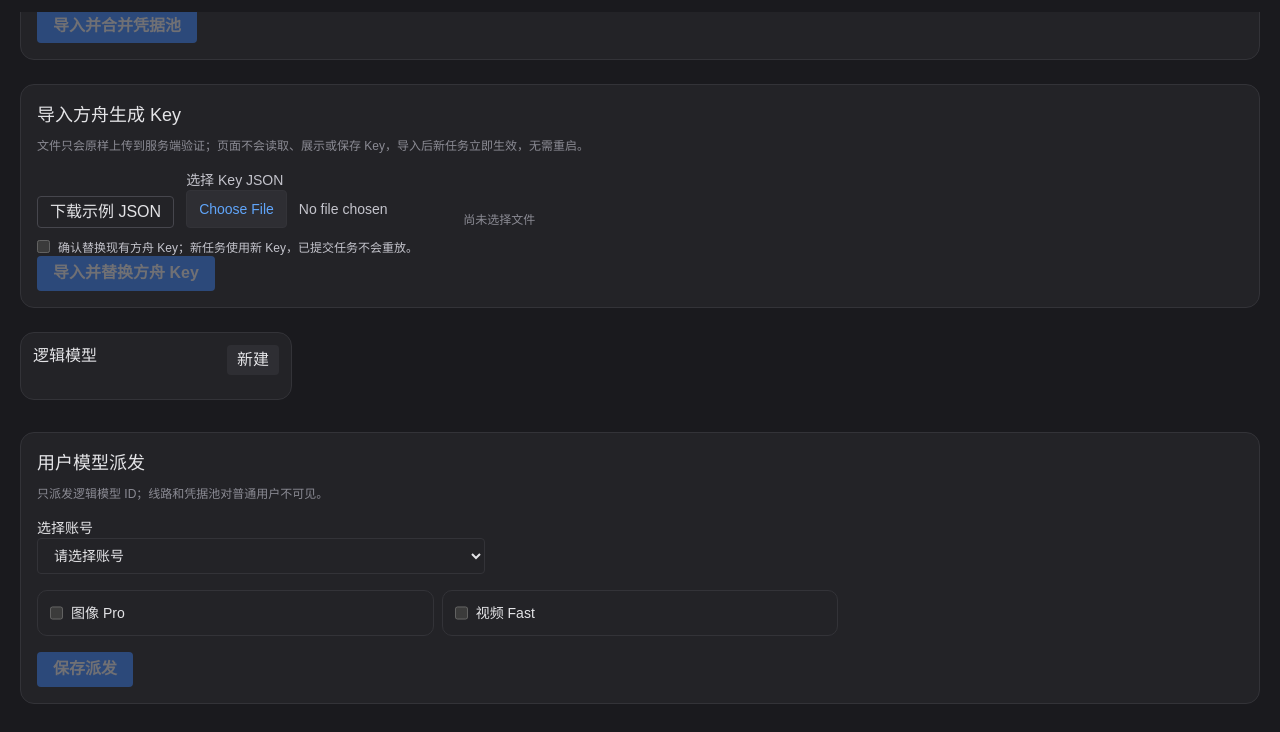
Test case: saves the selected model assignments in one request
The width and height of the screenshot is (1280, 732).
Select "普通用户 · canvas-user" in the dropdown labelled "选择账号": (261, 556) [37, 538, 485, 574]
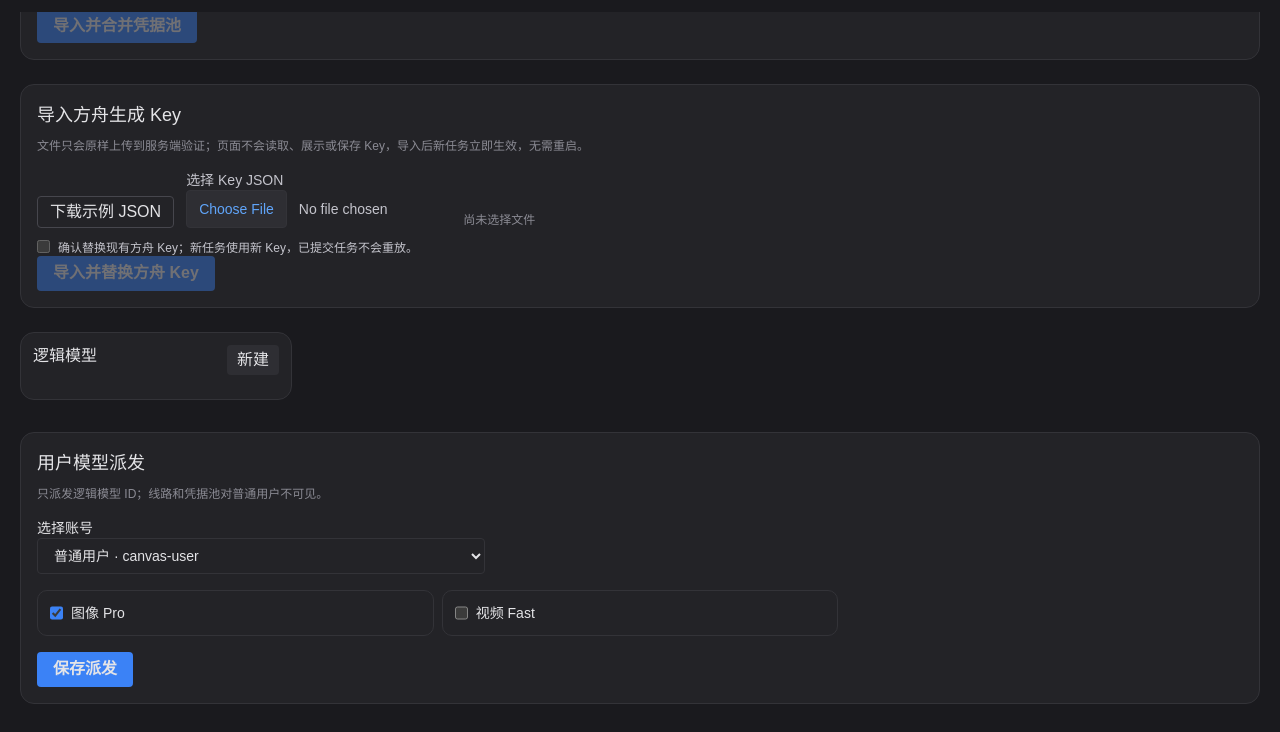
Click the checkbox labelled "视频 Fast": (461, 613) [455, 603, 468, 623]
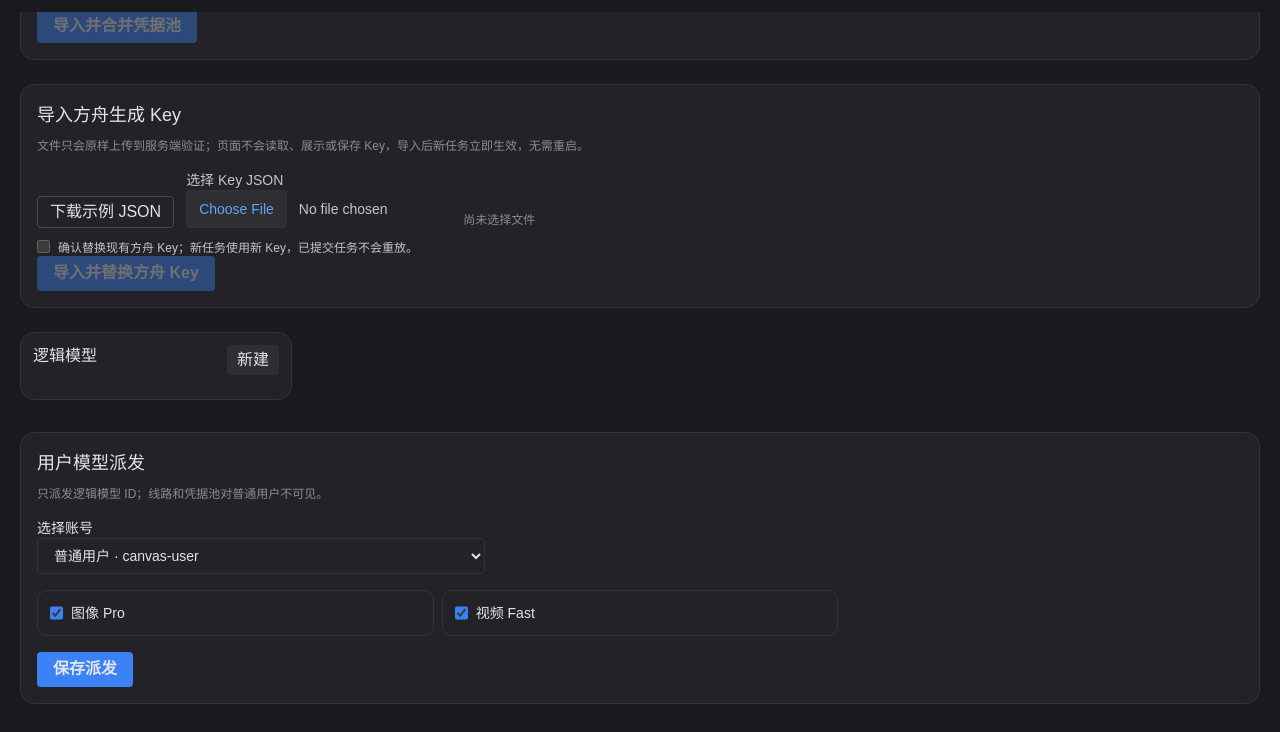
Click the button "保存派发": (85, 669) [37, 652, 133, 687]
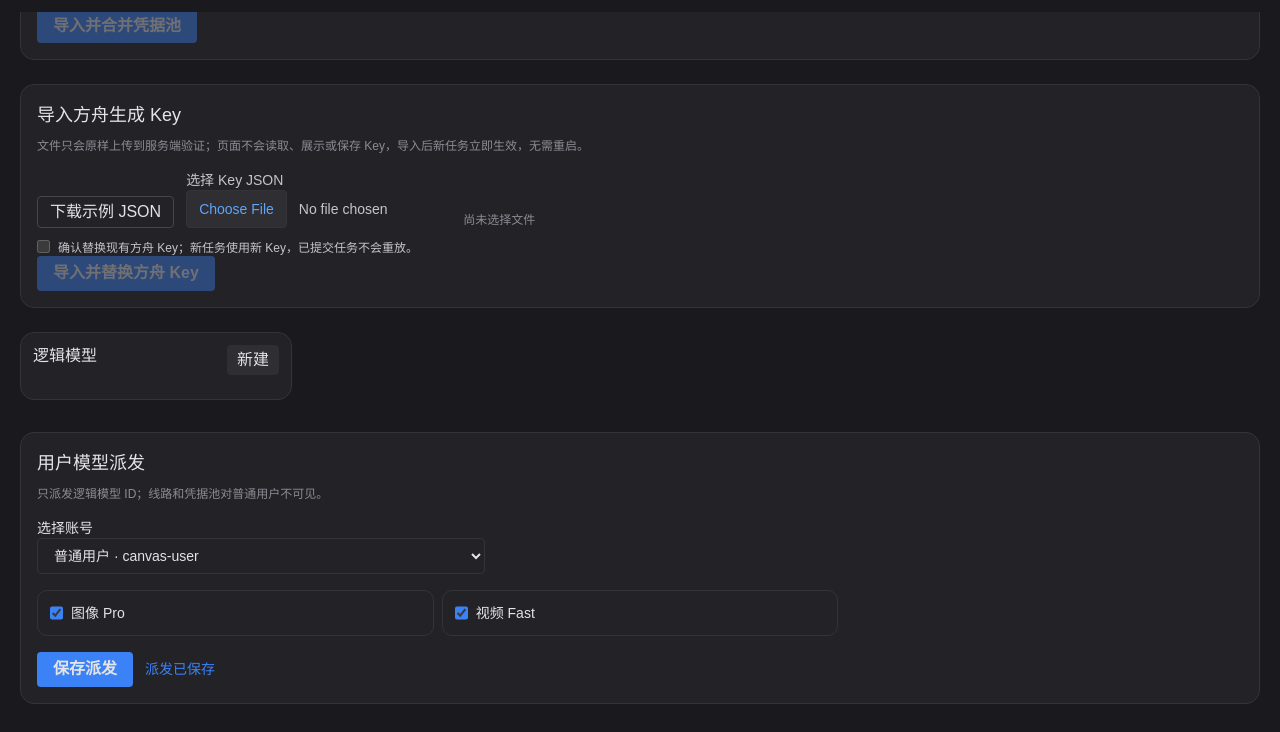
Now the text "派发已保存" is shown, box [145, 659, 215, 679]
